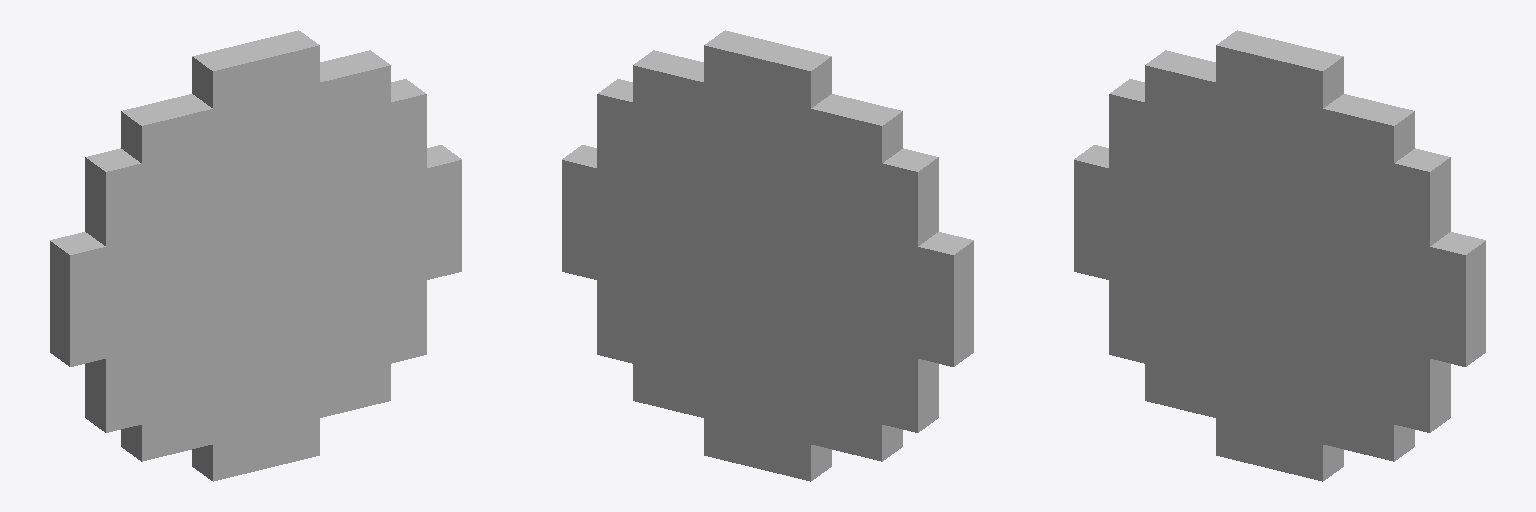
The model's file is coin.obj.
The picture shows the model from 3 angles: view 1: azimuth 30°, elevation 25°; view 2: azimuth 150°, elevation 25°; view 3: azimuth 330°, elevation 25°; orthographic projection.
Visible parts, largest first — view 1: cube; view 2: cube; view 3: cube.
Boxes of the visible parts, x1,y1,x2,y2 form: cube: [50, 30, 461, 481]; cube: [562, 30, 973, 481]; cube: [1074, 30, 1485, 481].
Size of the model in its own units: 0.6875 by 0.6875 by 0.0625.